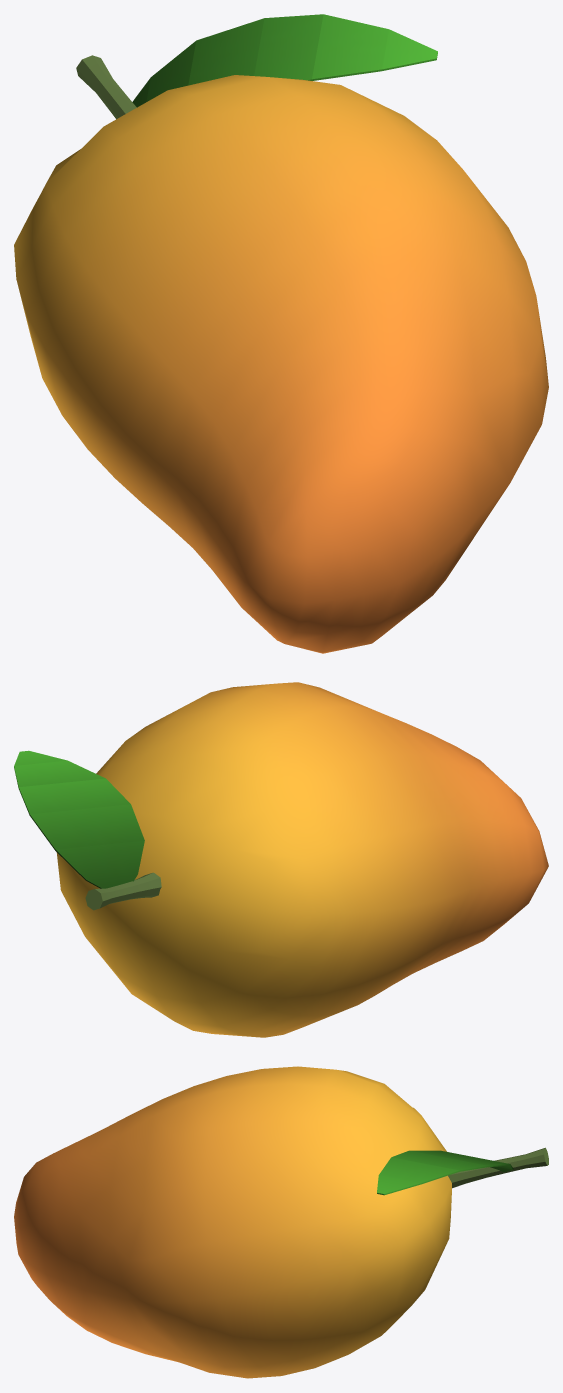
File: Mango.fbx
The picture shows the model from 3 angles, top to bottom: view 1: azimuth 30°, elevation 25°; view 2: azimuth 150°, elevation 25°; view 3: azimuth 270°, elevation 25°; orthographic projection. The views are drawn at different scales.
Visible parts, largest first — view 1: Mango; view 2: Mango; view 3: Mango.
Boxes of the visible parts, box(x1,y1,x2,y2) form: Mango: box(14, 14, 548, 653); Mango: box(14, 682, 548, 1037); Mango: box(14, 1066, 548, 1378).
Size of the model in its own units: 0.514 by 0.4764 by 0.7999.
1 material, 1 textured.
